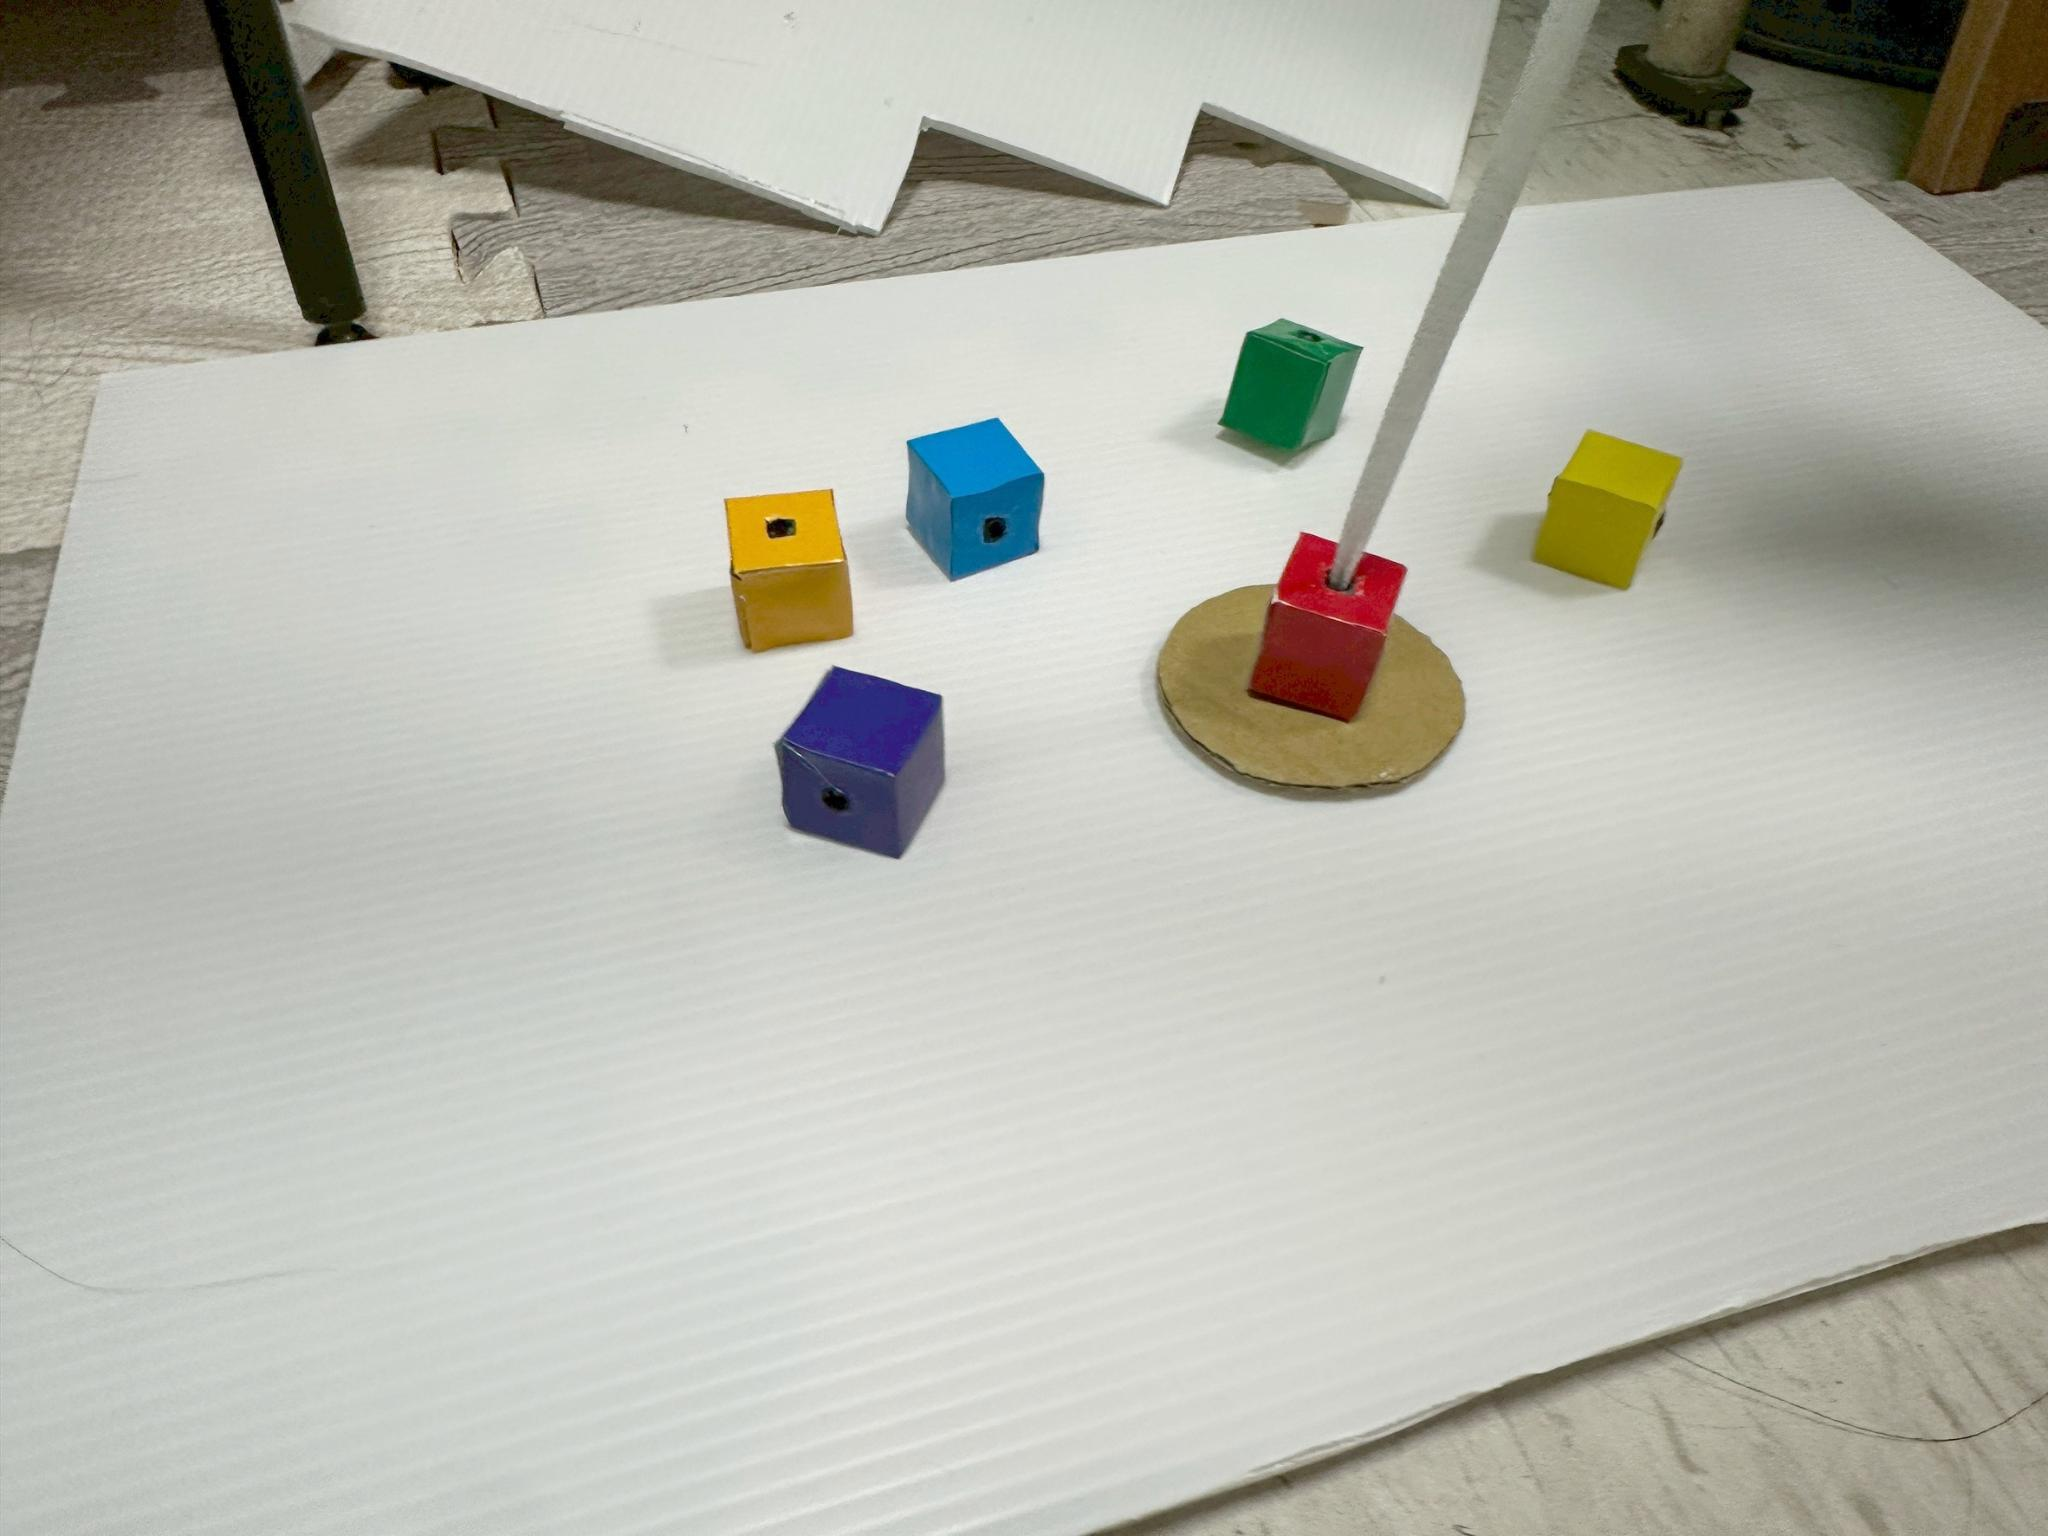cube: (776, 670, 943, 857), (1250, 534, 1405, 723), (1534, 431, 1680, 589), (906, 418, 1043, 579), (726, 490, 853, 652), (1219, 319, 1363, 452)
